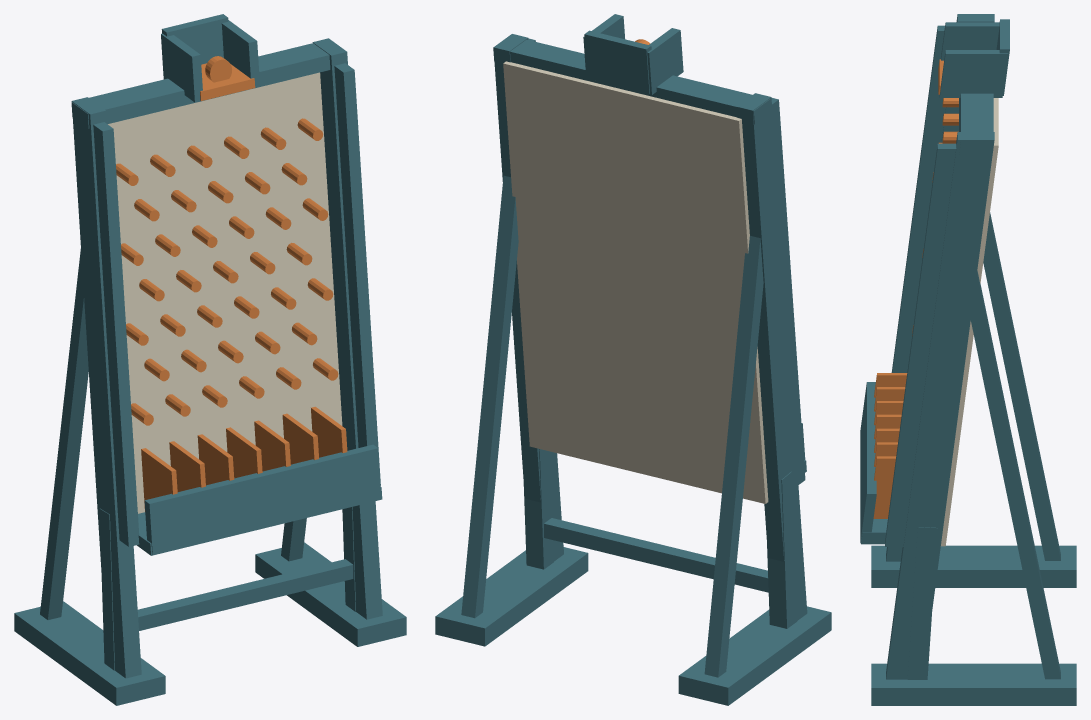
The picture shows the model from 3 angles, left to right: view 1: azimuth 30°, elevation 25°; view 2: azimuth 150°, elevation 25°; view 3: azimuth 270°, elevation 25°; orthographic projection.
Parts seen in each view (by area): view 1: WholeTallSolidDropField, WholeCollectionFrontLip, LeftWholeFieldSidePost, RightWholeFieldSidePost, LeftWholeFullReturnCheek, RightWholeFullReturnCheek, LeftWholeRearBrace, LeftWholeLongGroundShoe, WholeUpperFrameCrossbar, RightWholeLongGroundShoe, WholeLowerGroundTie, LeftWholeUpperEntryCheek (+14 smaller); view 2: WholeTallSolidDropField, LeftWholeFieldSidePost, LeftWholeRearBrace, RightWholeRearBrace, RightWholeLongGroundShoe, LeftWholeLongGroundShoe, RightWholeFieldSidePost, WholeLowerGroundTie, WholeUpperFrameCrossbar, WholeUpperEntryBack, LeftWholeFullReturnCheek, LeftWholeFrontSupportLeg (+2 smaller); view 3: RightWholeFieldSidePost, RightWholeFullReturnCheek, RightWholeLongGroundShoe, RightWholeRearBrace, LeftWholeLongGroundShoe, LeftWholeRearBrace, LeftWholeFullReturnCheek, RightWholeFrontSupportLeg, RightWholeUpperEntryCheek, WholeTallSolidDropField, WholeCollectionFrontLip, WholeUpperFrameCrossbar (+10 smaller).
Boxes of the visible parts, x1,y1,x2,y2 form: WholeTallSolidDropField: (108, 72, 342, 513); WholeCollectionFrontLip: (144, 444, 381, 554); LeftWholeFieldSidePost: (71, 97, 141, 678); RightWholeFieldSidePost: (312, 38, 382, 619); LeftWholeFullReturnCheek: (93, 122, 139, 546); RightWholeFullReturnCheek: (334, 63, 380, 485); LeftWholeRearBrace: (40, 249, 88, 619); LeftWholeLongGroundShoe: (14, 601, 165, 705); WholeUpperFrameCrossbar: (71, 43, 330, 128); RightWholeLongGroundShoe: (255, 542, 406, 646); WholeLowerGroundTie: (137, 559, 353, 630); LeftWholeUpperEntryCheek: (161, 33, 202, 102); WholeTallSolidDropField: (503, 61, 768, 503); LeftWholeFieldSidePost: (736, 93, 807, 620); LeftWholeRearBrace: (704, 235, 763, 677); RightWholeRearBrace: (461, 175, 518, 618); RightWholeLongGroundShoe: (435, 547, 588, 646); LeftWholeLongGroundShoe: (678, 606, 831, 705); RightWholeFieldSidePost: (493, 34, 563, 561); WholeLowerGroundTie: (544, 518, 768, 592); WholeUpperFrameCrossbar: (493, 39, 771, 124); WholeUpperEntryBack: (584, 30, 651, 93); LeftWholeFullReturnCheek: (771, 98, 805, 484); LeftWholeFrontSupportLeg: (767, 471, 797, 628); RightWholeFieldSidePost: (886, 132, 994, 679); RightWholeFullReturnCheek: (885, 143, 956, 546); RightWholeLongGroundShoe: (871, 663, 1076, 705); RightWholeRearBrace: (970, 271, 1060, 679); LeftWholeLongGroundShoe: (871, 545, 1076, 587); LeftWholeRearBrace: (983, 212, 1060, 560); LeftWholeFullReturnCheek: (891, 25, 945, 372); RightWholeFrontSupportLeg: (907, 527, 937, 679); RightWholeUpperEntryCheek: (939, 50, 1008, 97); WholeTallSolidDropField: (941, 98, 998, 546); WholeCollectionFrontLip: (860, 382, 876, 543); WholeUpperFrameCrossbar: (959, 93, 993, 154).
Size of the model in its own units: 1.18 by 2.33 by 0.7589.
